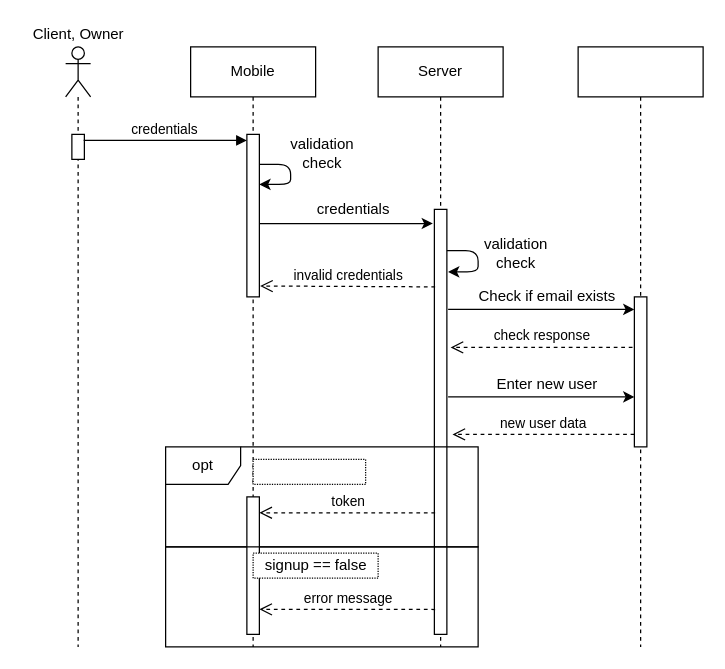
Image size: 725x669. Some labels were removed from this diagram. The box of each missing label's shape, as (x1, y1, x2, y2) in pixels:
Database: (577, 46, 703, 647)
signup == true: (252, 458, 366, 484)
